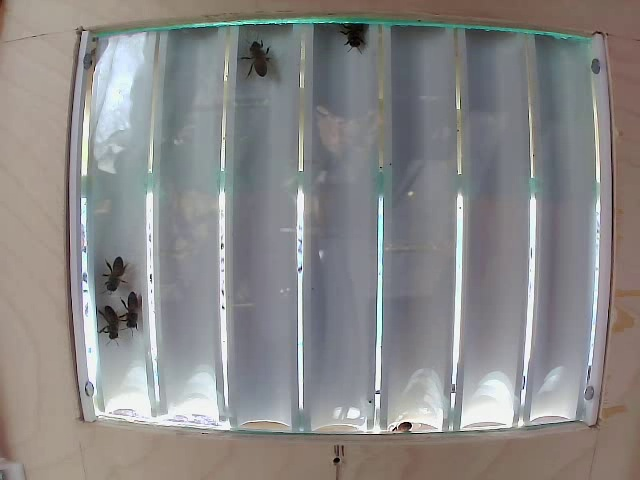bee: (328, 6, 368, 52), (244, 31, 271, 80), (108, 253, 141, 292), (121, 281, 145, 333), (92, 298, 116, 346)
